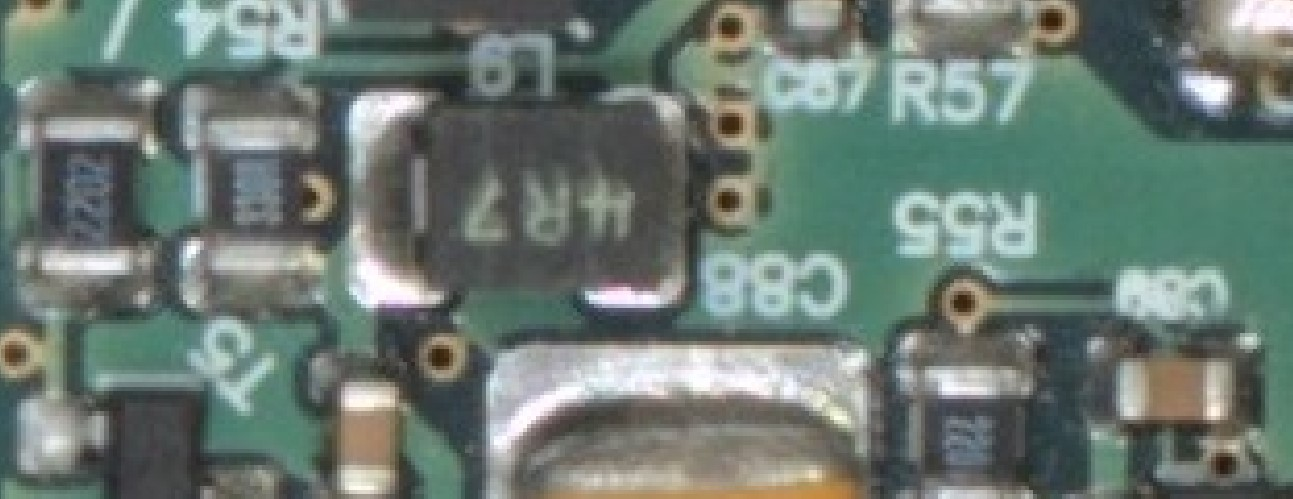Induktor: (405, 94, 685, 293)
